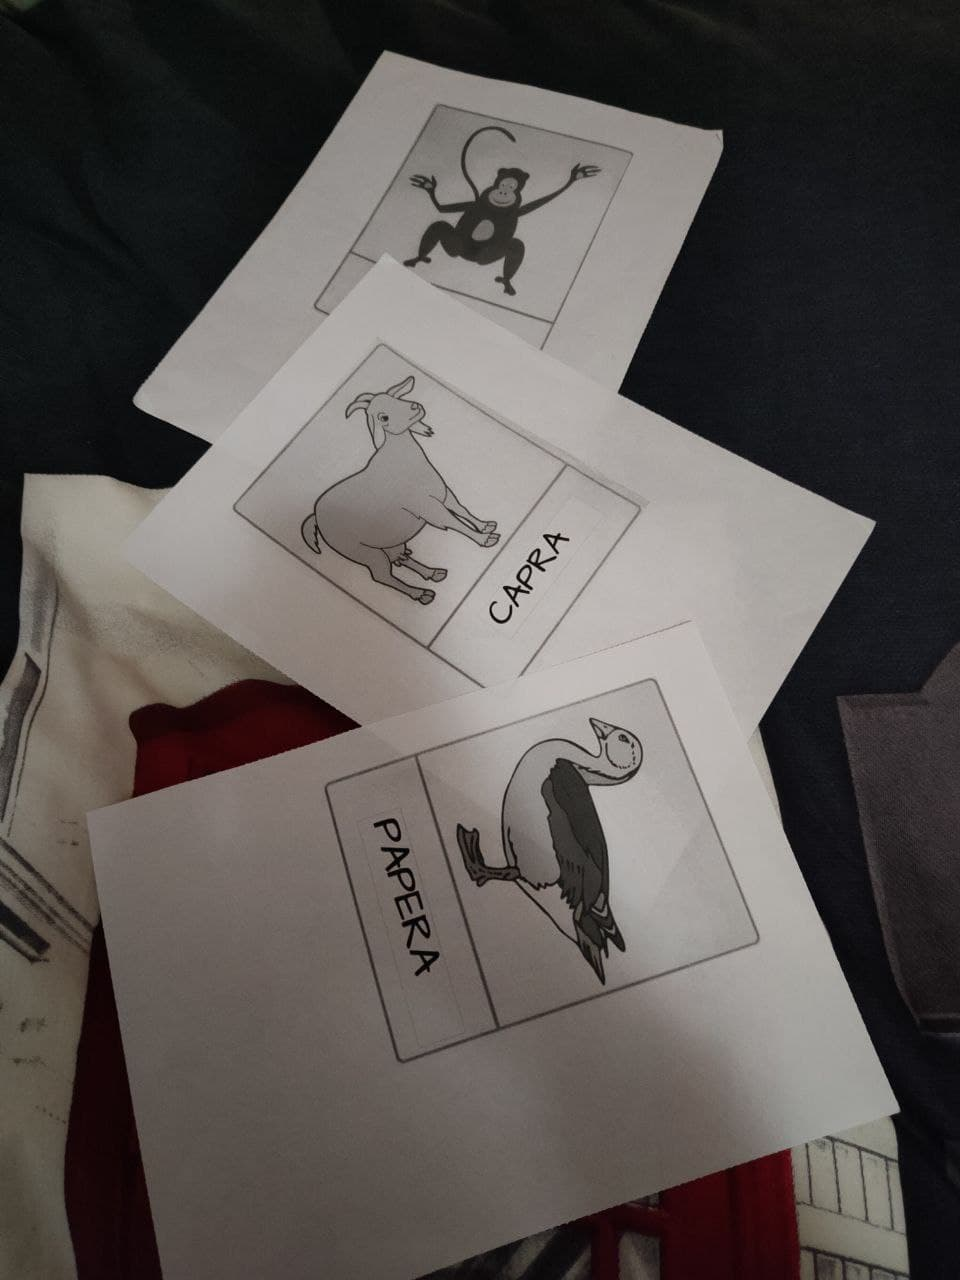capra: (285, 365, 604, 664)
papera: (341, 711, 712, 1032)
scimmia: (368, 101, 611, 347)
